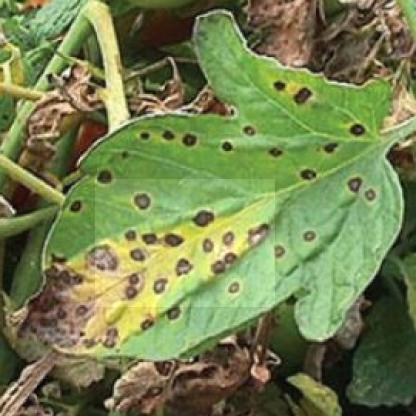black-spot: (95, 180, 275, 308)
